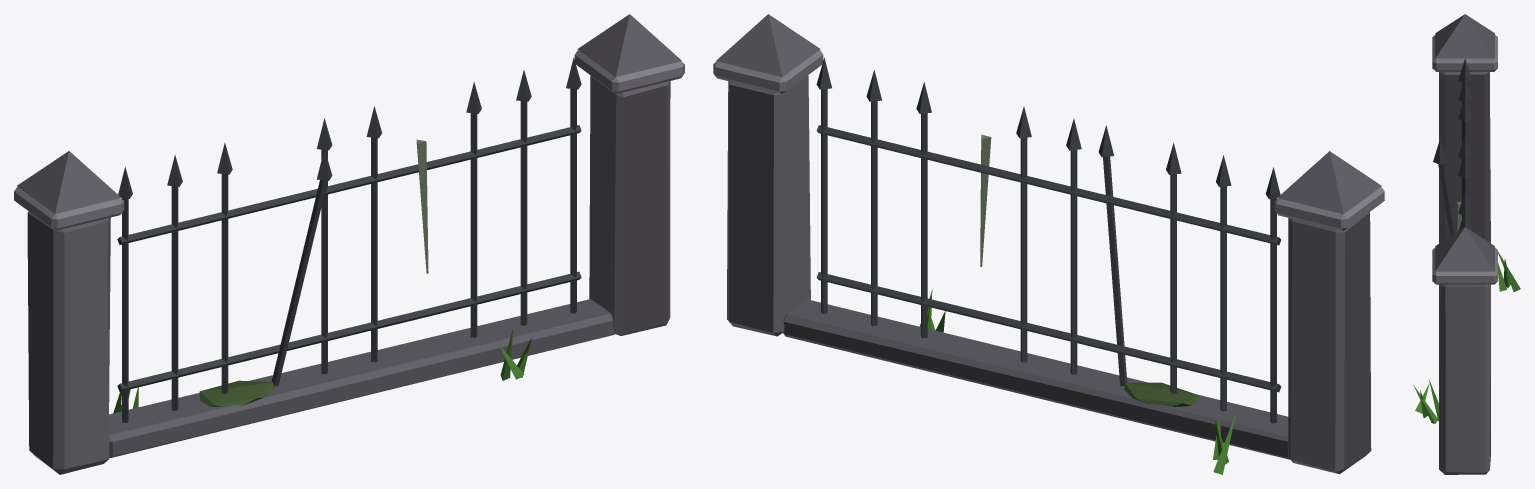
Rendered from cemetery_fence.glb.
3 views of the same model, side by side, from view 1: azimuth 30°, elevation 25°; view 2: azimuth 150°, elevation 25°; view 3: azimuth 270°, elevation 25° (orthographic). The views are drawn at different scales.
Visible parts, largest first — view 1: CemeteryFence; view 2: CemeteryFence; view 3: CemeteryFence.
Part boxes in pixels (bbox=[...]): CemeteryFence: bbox=[14, 14, 684, 474]; CemeteryFence: bbox=[713, 14, 1384, 474]; CemeteryFence: bbox=[1413, 14, 1520, 474].
Bounding box in the file's own units: 2.26 × 1.1 × 0.4282.
